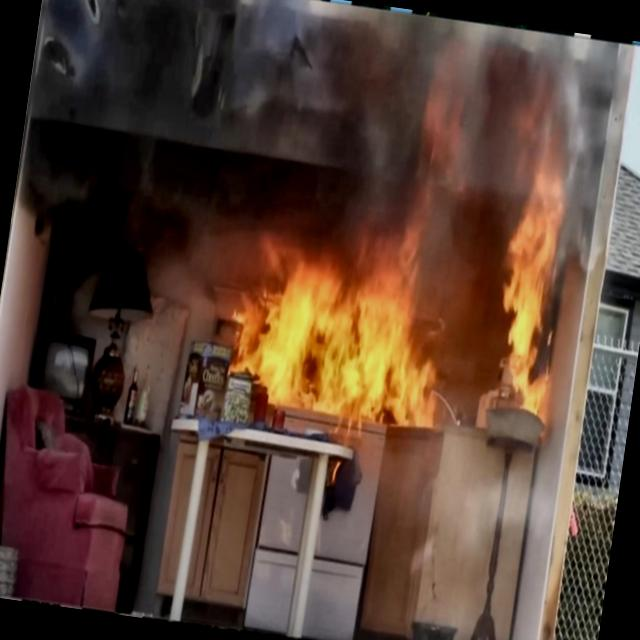fire: (196, 193, 578, 487)
